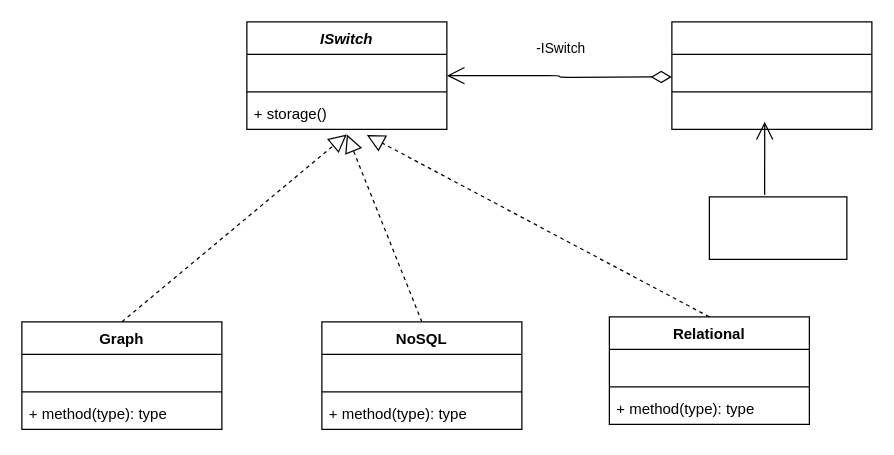
The diagram is 894 pixels wide and 455 high, and some of its shapes have lost their labels. Each missing label, with the centre of its shape:
Main: (x=777, y=227)
Store: (x=771, y=75)
